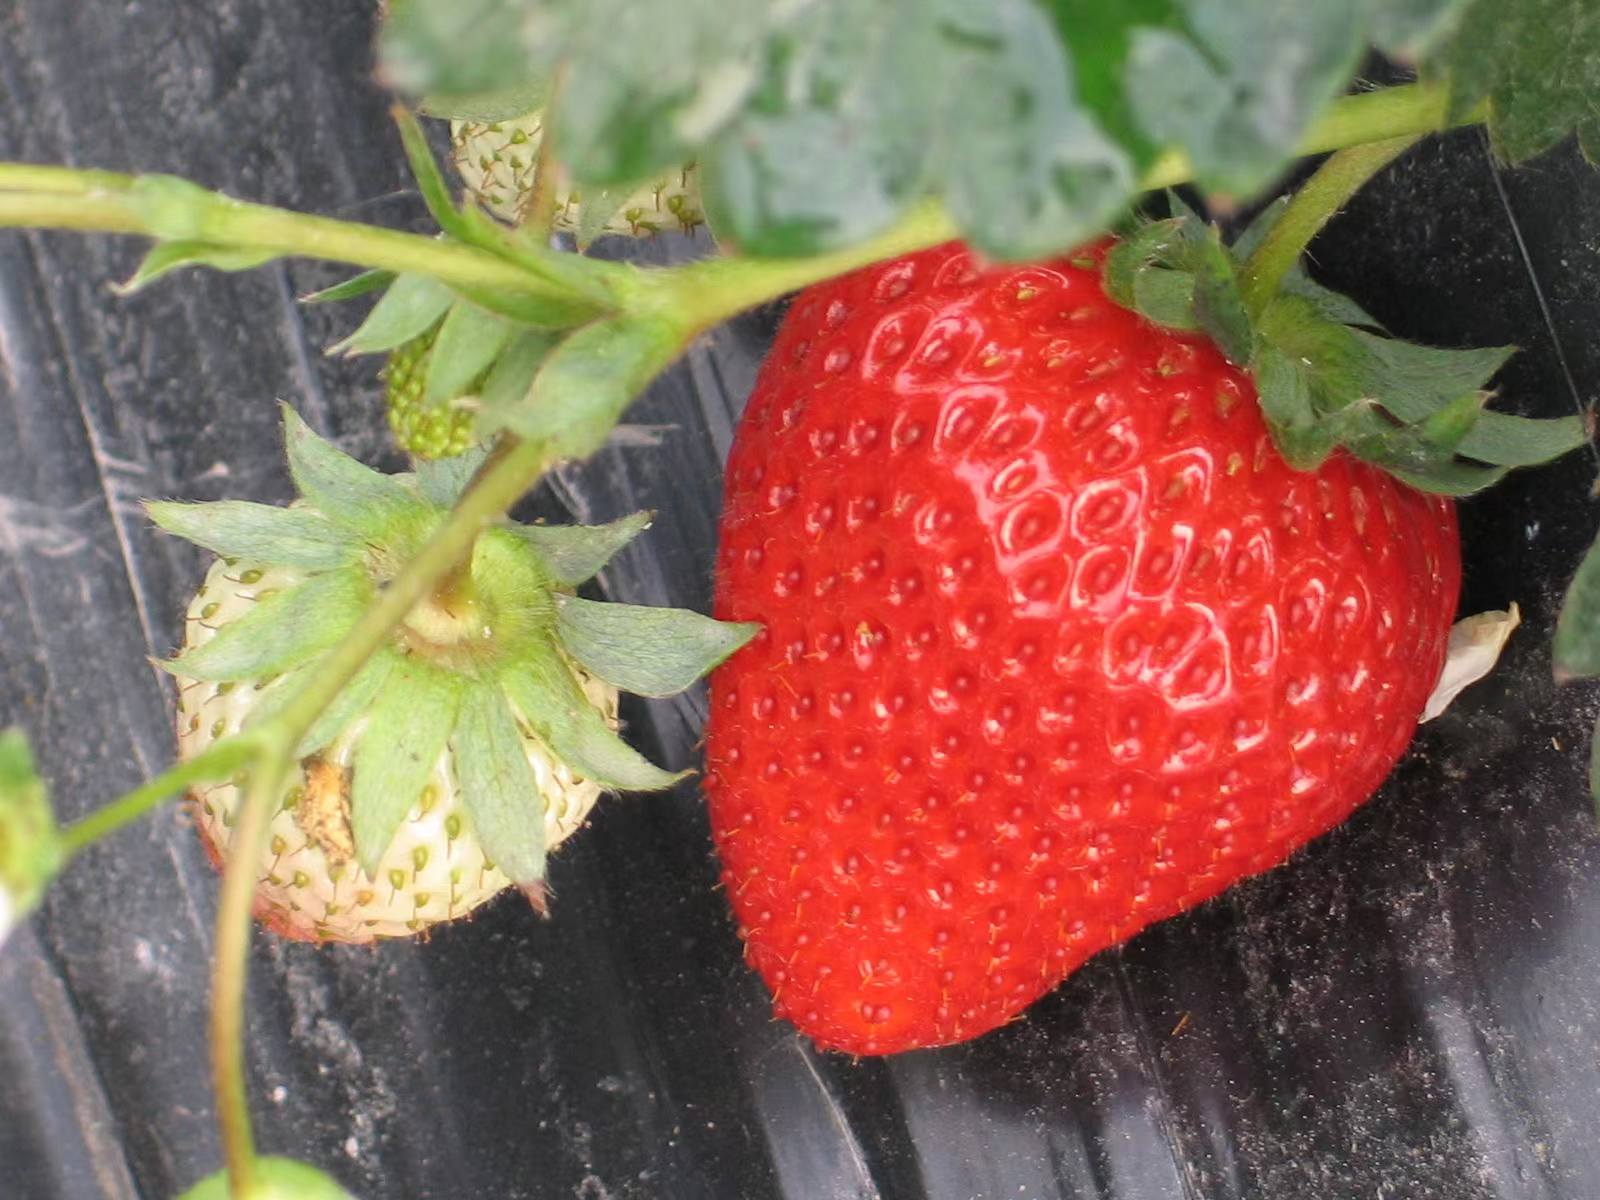StrawberryCone: (702, 190, 1478, 1054)
StrawberryIrremovable: (164, 498, 610, 961), (422, 64, 736, 245), (370, 311, 511, 463)
StrawberryRemovable: (718, 198, 1461, 1056)
